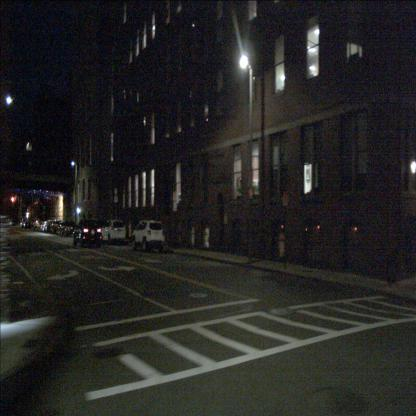vehicle-car: (132, 219, 166, 254), (72, 218, 103, 251), (100, 219, 127, 246), (60, 220, 75, 239), (50, 219, 62, 234), (44, 219, 55, 234), (21, 221, 32, 230)
